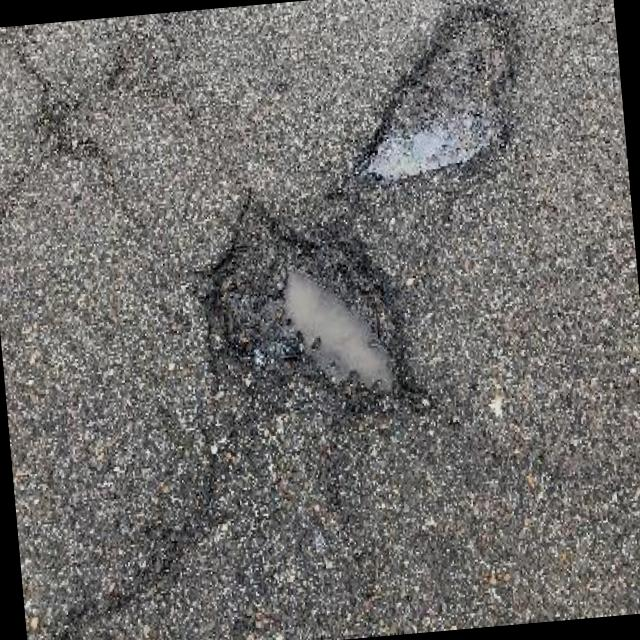Lubang: (220, 203, 394, 392), (366, 5, 510, 181)
